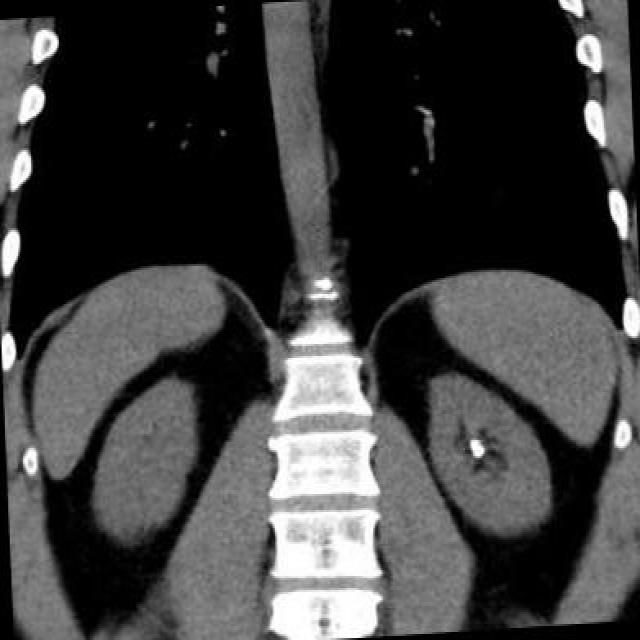Tas_Var: (468, 436, 486, 460)
